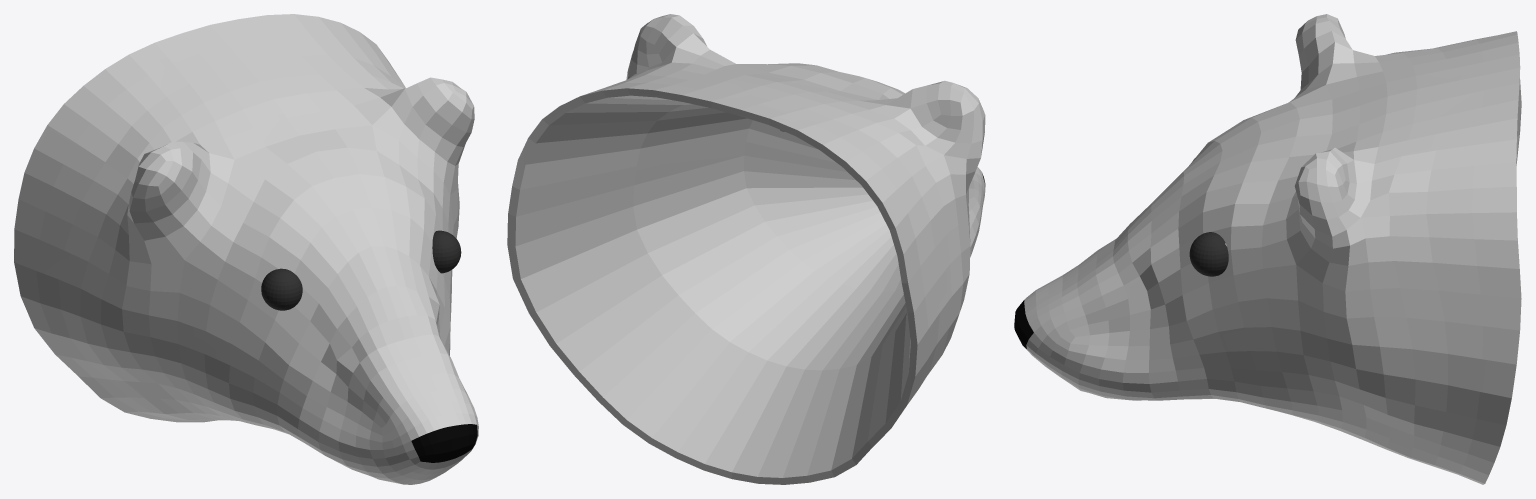
The model's file is PolarBearHead.fbx.
3 views of the same model, side by side, from view 1: azimuth 30°, elevation 25°; view 2: azimuth 150°, elevation 25°; view 3: azimuth 270°, elevation 25° (orthographic). The views are drawn at different scales.
Visible parts, largest first — view 1: Quad_Sphere; view 2: Quad_Sphere; view 3: Quad_Sphere.
Part boxes in pixels (bbox=[...]): Quad_Sphere: bbox=[14, 14, 478, 484]; Quad_Sphere: bbox=[507, 14, 985, 484]; Quad_Sphere: bbox=[1014, 14, 1521, 484].
Bounding box in the file's own units: 52.67 × 48.19 × 56.02.
3 materials, 3 textured.
